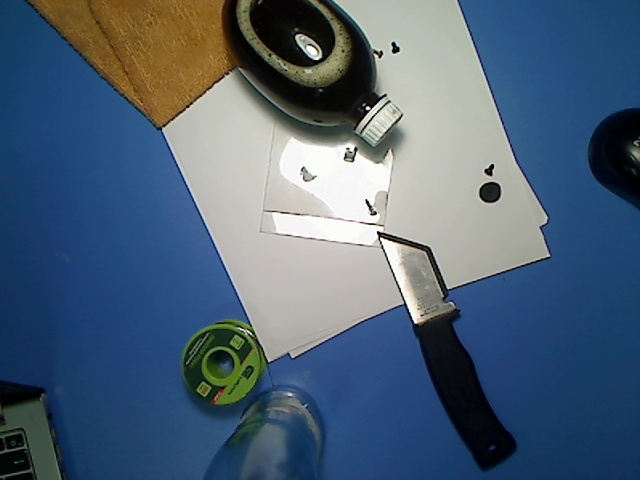plast_bottle: (216, 1, 405, 149)
